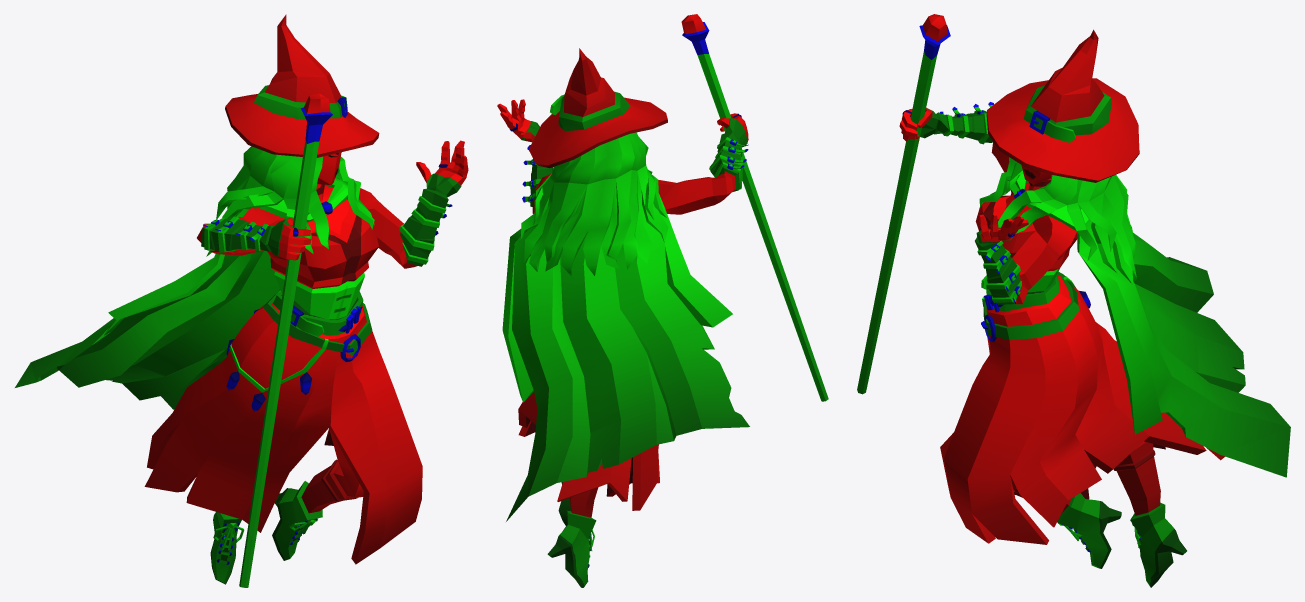
Rendered from F_Witch_prePosed.fbx.
The picture shows the model from 3 angles, left to right: view 1: azimuth 30°, elevation 25°; view 2: azimuth 150°, elevation 25°; view 3: azimuth 270°, elevation 25°; orthographic projection. The views are drawn at different scales.
Parts seen in each view (by area): view 1: F_Witch_prePosed; view 2: F_Witch_prePosed; view 3: F_Witch_prePosed.
Part boxes in pixels (x1,y1,x2,y2): F_Witch_prePosed: [15, 14, 468, 587]; F_Witch_prePosed: [497, 14, 828, 587]; F_Witch_prePosed: [857, 14, 1290, 587].
Bounding box in the file's own units: 153 × 232 × 159.
